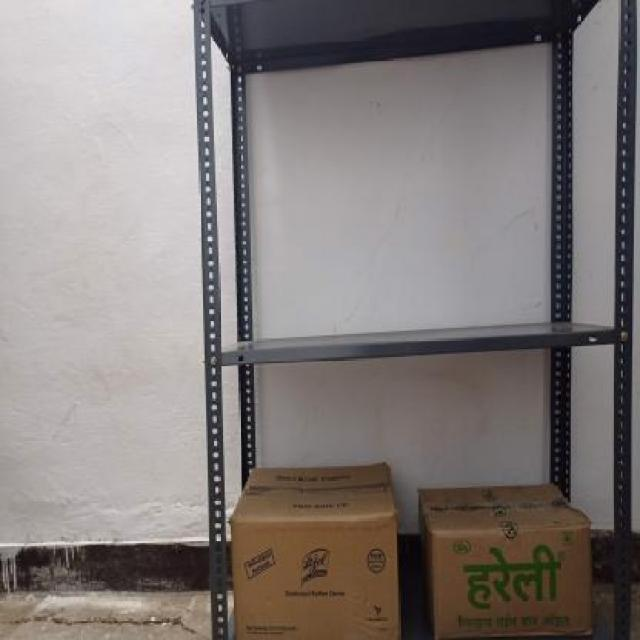box: (233, 512, 401, 640), (430, 523, 596, 640)
